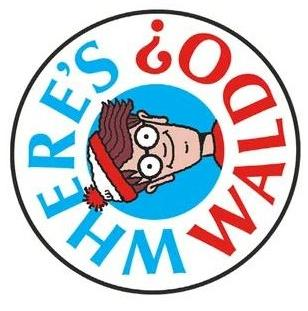waldos: (82, 96, 224, 212)
